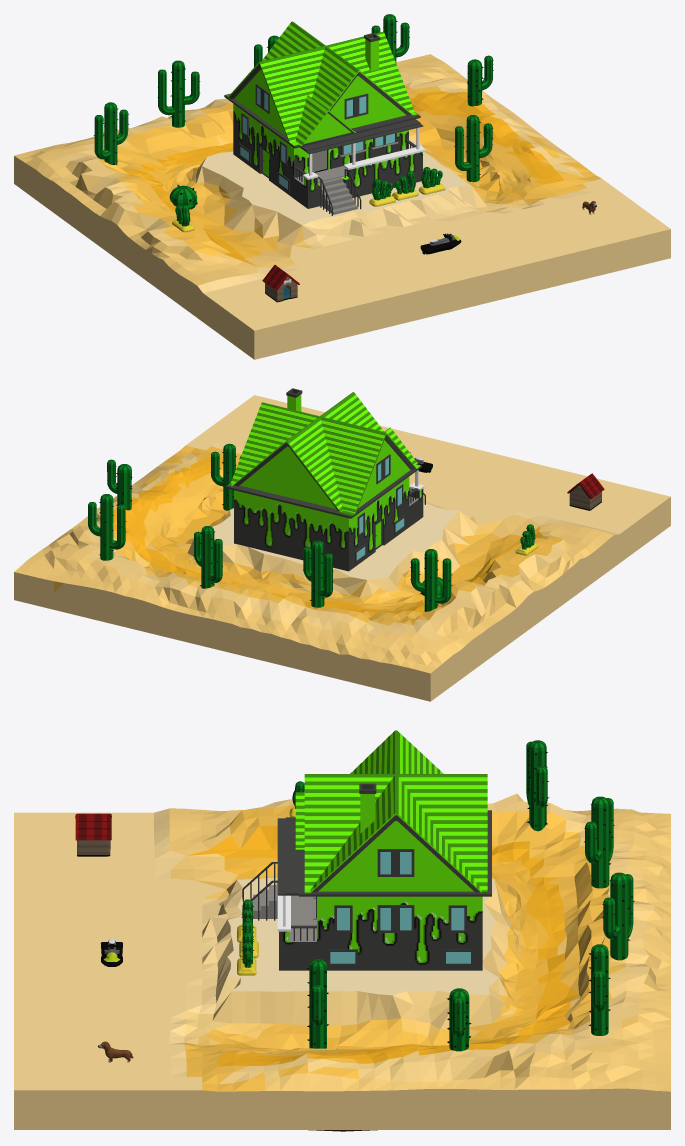
The picture shows the model from 3 angles, top to bottom: view 1: azimuth 30°, elevation 25°; view 2: azimuth 150°, elevation 25°; view 3: azimuth 270°, elevation 25°; orthographic projection. The views are drawn at different scales.
Parts seen in each view (by area): view 1: Cube.001, Cube.754, Cylinder.037, Cylinder.044, Cylinder.045, Cylinder.038, OBJRANDOM_DOGHOUSE, Cylinder.042, Cylinder.039, Cylinder.041, Sphere.023, Cylinder.040; view 2: Cube.001, Cube.754, Cylinder.042, Cylinder.045, Cylinder.044, Cylinder.043, Cylinder.037, Cylinder.038, OBJRANDOM_DOGHOUSE; view 3: Cube.001, Cube.754, Cylinder.043, Cylinder.044, Cylinder.045, Cylinder.042, Cylinder.037, OBJRANDOM_DOGHOUSE, Cylinder.038, Cylinder.041.
Boxes of the visible parts, <box> form: Cube.001: <box>14,54,670,359</box>; Cube.754: <box>224,21,425,215</box>; Cylinder.037: <box>454,115,493,182</box>; Cylinder.044: <box>157,60,200,127</box>; Cylinder.045: <box>93,102,129,164</box>; Cylinder.038: <box>467,55,493,106</box>; OBJRANDOM_DOGHOUSE: <box>262,265,299,302</box>; Cylinder.042: <box>371,14,409,62</box>; Cylinder.039: <box>369,179,395,206</box>; Cylinder.041: <box>418,167,445,194</box>; Sphere.023: <box>169,184,197,209</box>; Cylinder.040: <box>392,171,418,200</box>; Cube.001: <box>14,395,670,701</box>; Cube.754: <box>225,388,425,571</box>; Cylinder.042: <box>88,494,126,560</box>; Cylinder.045: <box>410,549,452,611</box>; Cylinder.044: <box>303,540,333,607</box>; Cylinder.043: <box>193,526,222,588</box>; Cylinder.037: <box>211,443,241,510</box>; Cylinder.038: <box>107,459,132,510</box>; OBJRANDOM_DOGHOUSE: <box>567,473,604,510</box>; Cube.001: <box>14,793,670,1129</box>; Cube.754: <box>242,730,491,970</box>; Cylinder.043: <box>602,872,634,960</box>; Cylinder.044: <box>584,796,614,888</box>; Cylinder.045: <box>526,740,549,831</box>; Cylinder.042: <box>588,944,610,1035</box>; Cylinder.037: <box>307,959,328,1048</box>; OBJRANDOM_DOGHOUSE: <box>75,813,111,856</box>; Cylinder.038: <box>447,988,471,1051</box>; Cylinder.041: <box>237,932,256,975</box>.
Size of the model in its own units: 4002 by 1693 by 4001.
Materials: 32 (3 with a texture image).
